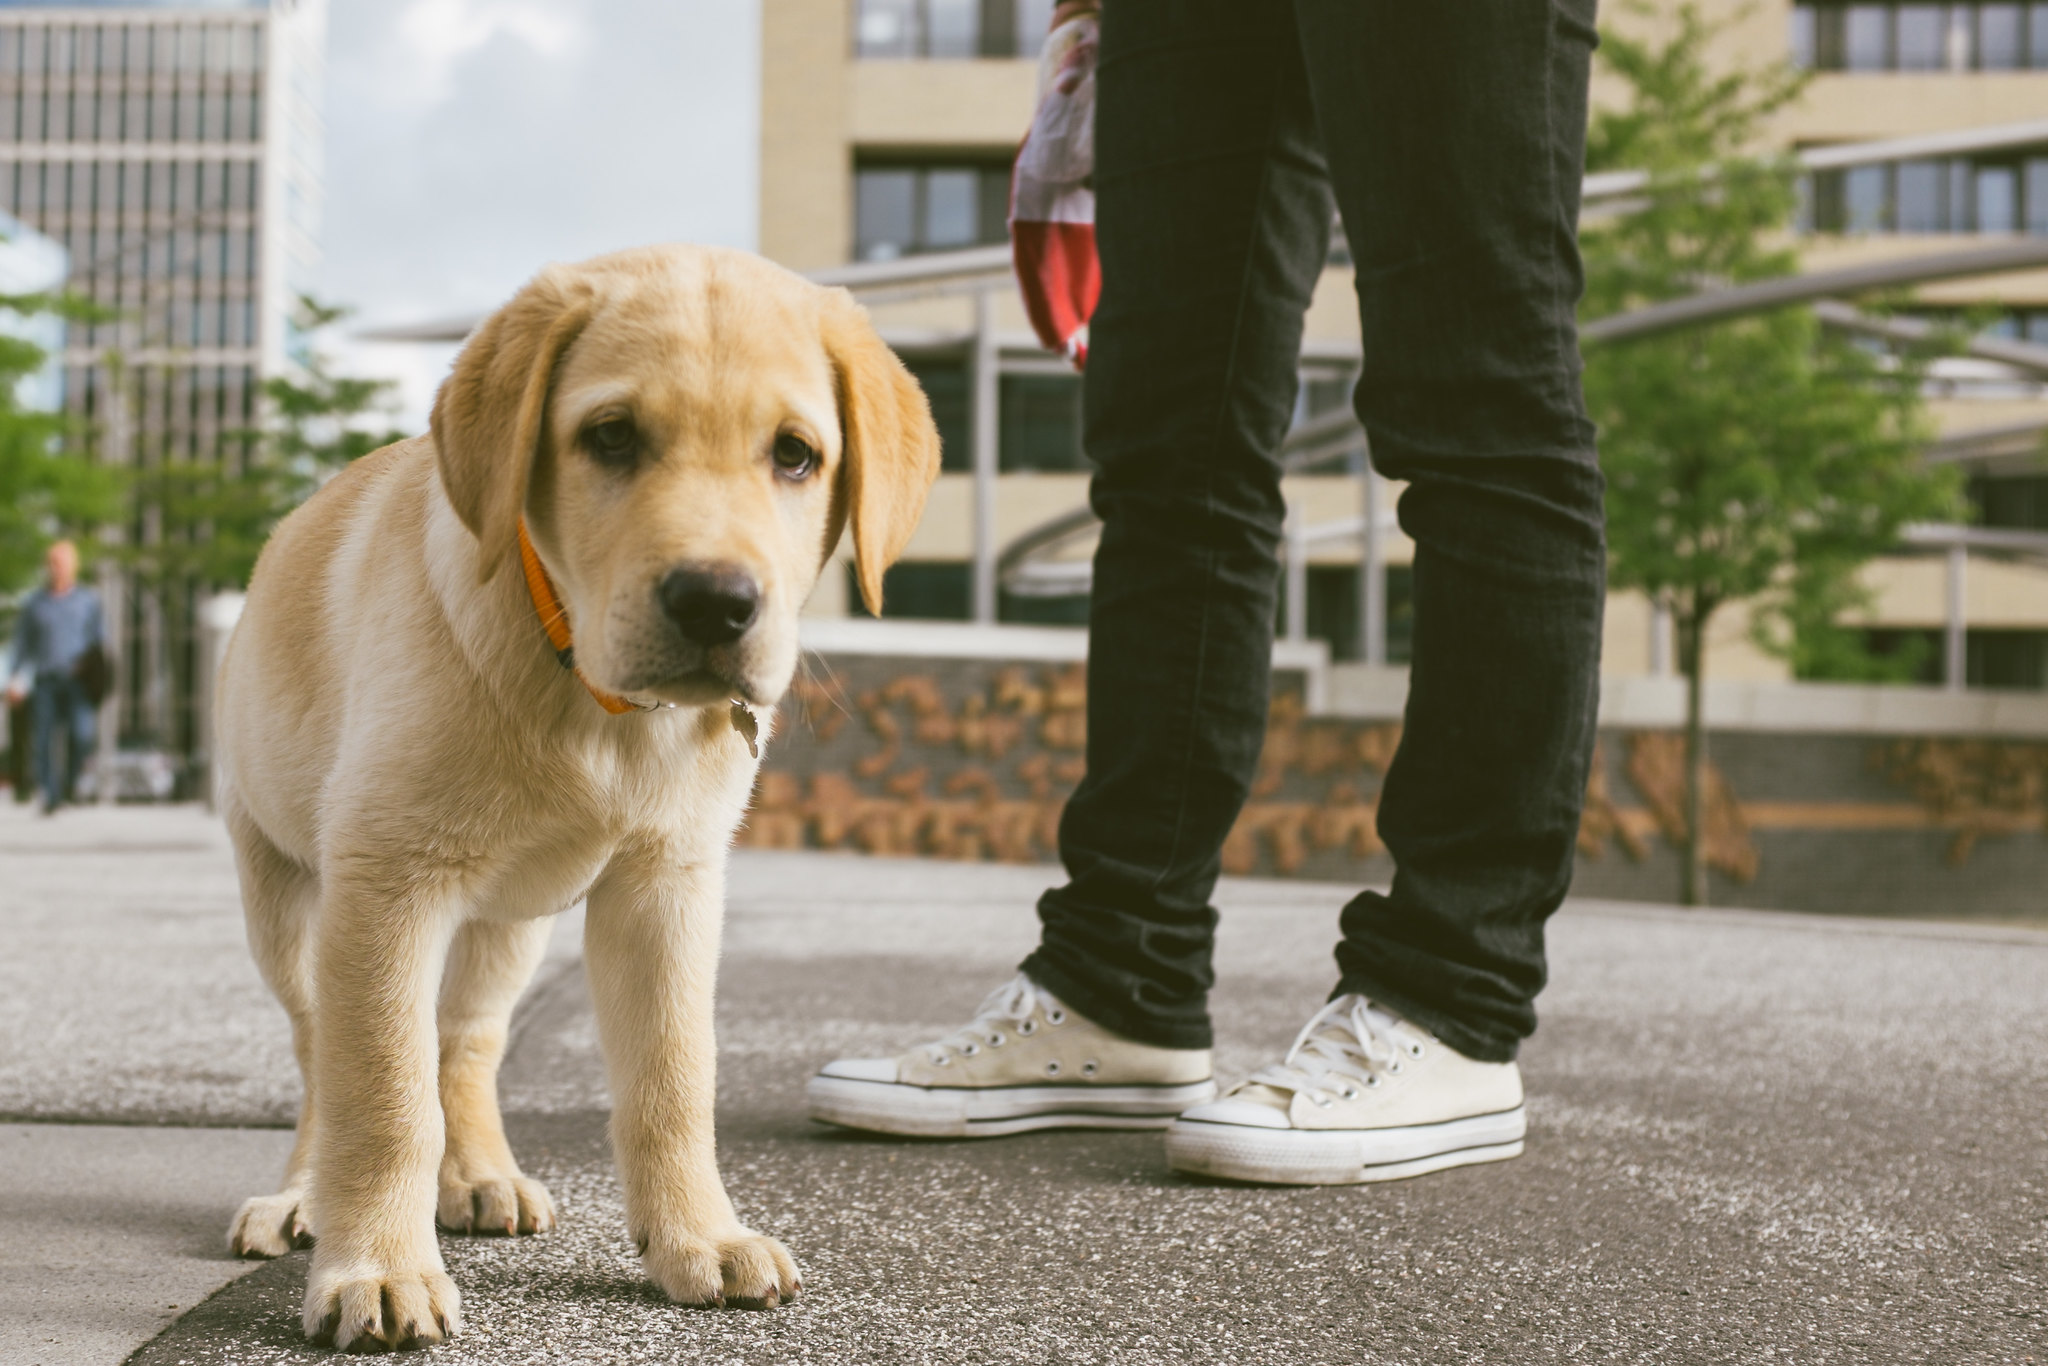dog: (155, 223, 958, 1329)
